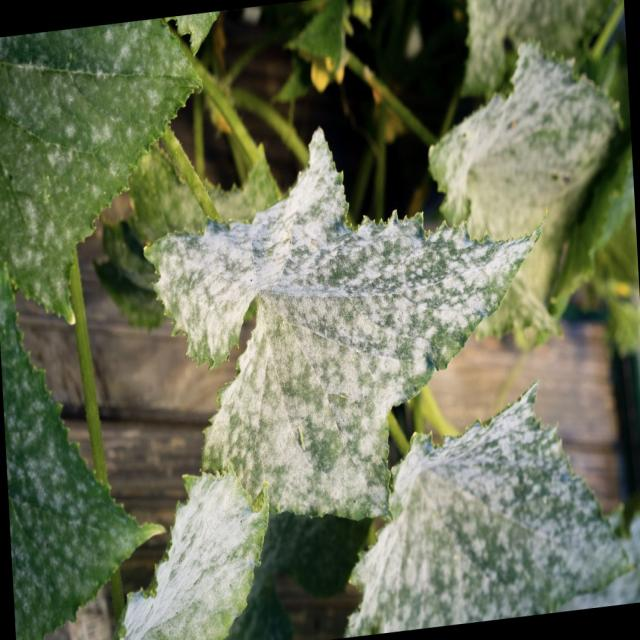Powdery Mildew: (142, 125, 547, 523), (343, 380, 639, 636), (427, 38, 620, 352), (120, 469, 270, 638)
